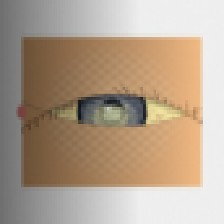corneal_ulcer: (82, 95, 139, 141)
